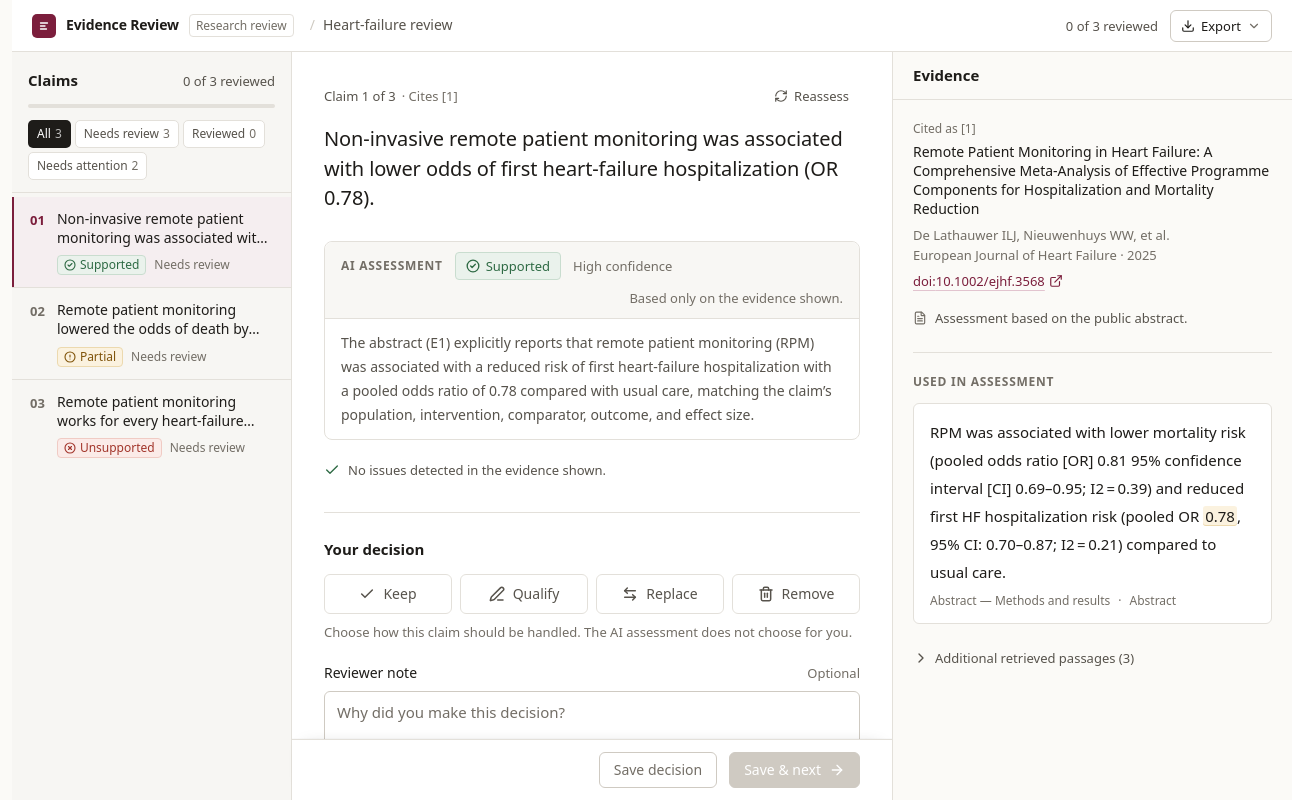
Review workspace — navigation › selecting a claim changes the workspace and the URL; deep links open that claim
Expected: the heading "Claim 1 of 3" is shown, [324,86,396,106]
What coordinates should you click on to do the following:
click the text "Remote patient monitoring lowered the odds of death by 22%."
I would click on:
 (166, 319)
Its box is [57,300,275,339].
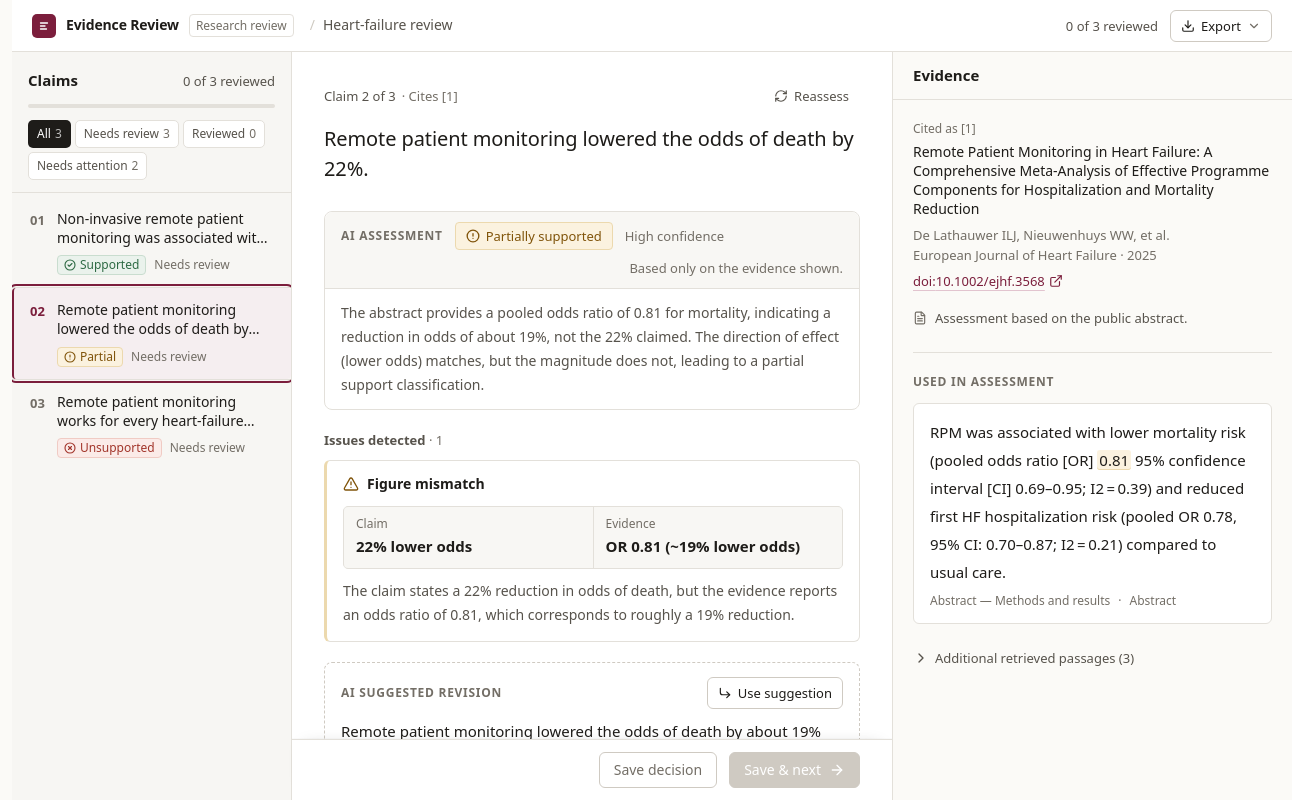
Result: the heading "Claim 2 of 3" is shown at [324,86,396,106]
Result: the text "Remote patient monitoring lowered the odds of death by 22%." below "· Cites" is shown at [324,125,854,182]
